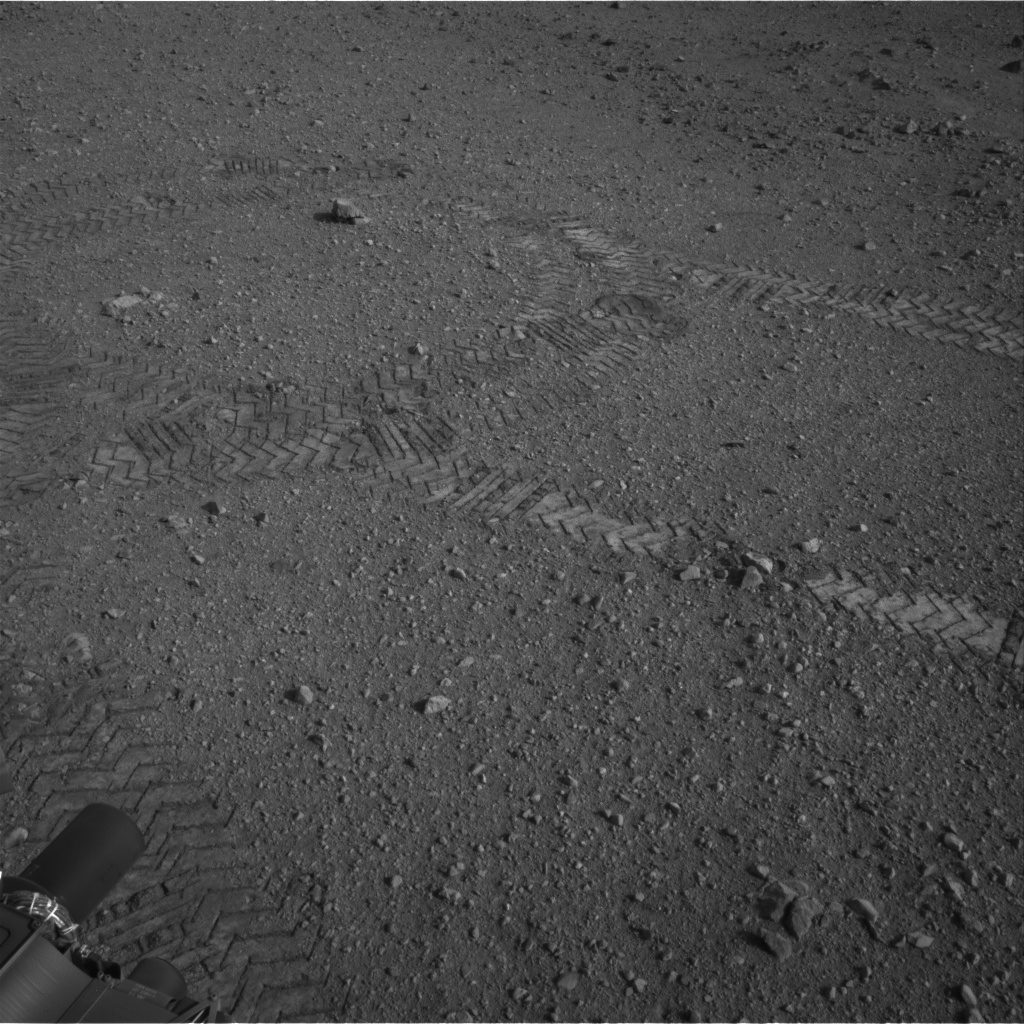soil: (4, 6, 1020, 1015)
